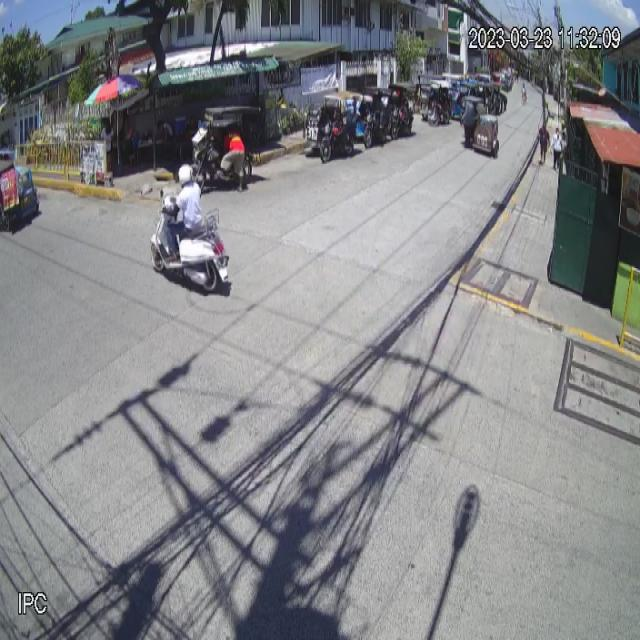Motorcycle: (150, 188, 230, 294)
